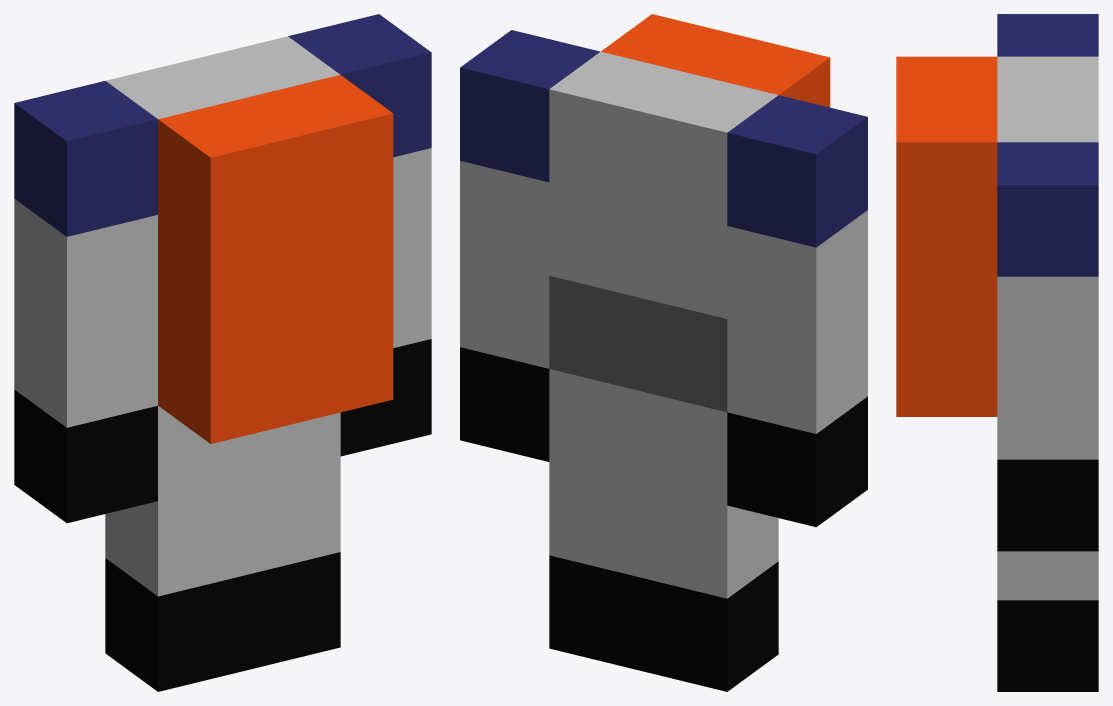
File: spaceman_5.glb
The picture shows the model from 3 angles, left to right: view 1: azimuth 30°, elevation 25°; view 2: azimuth 150°, elevation 25°; view 3: azimuth 270°, elevation 25°; orthographic projection. The views are drawn at different scales.
Size of the model in its own units: 4 by 6 by 2.
